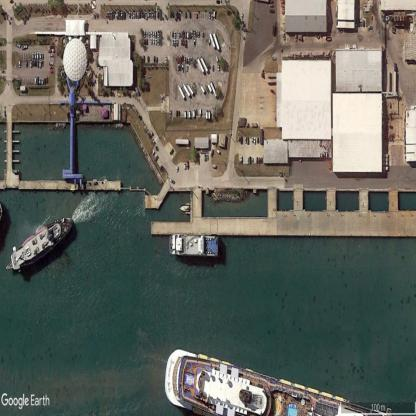ship: (164, 349, 387, 415), (10, 218, 73, 274), (167, 232, 220, 261)
